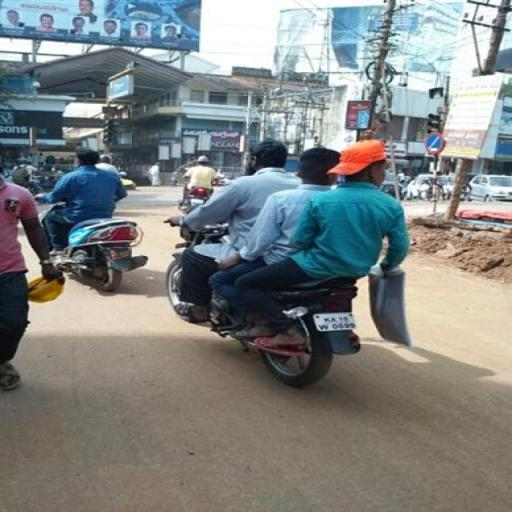tripple riding: (194, 131, 409, 258)
